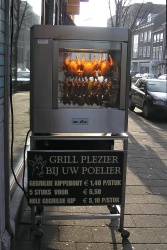car: (129, 78, 167, 121)
